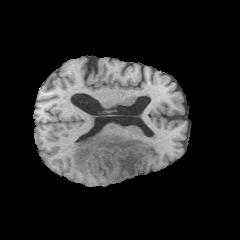glioma: (70, 132, 147, 181)
